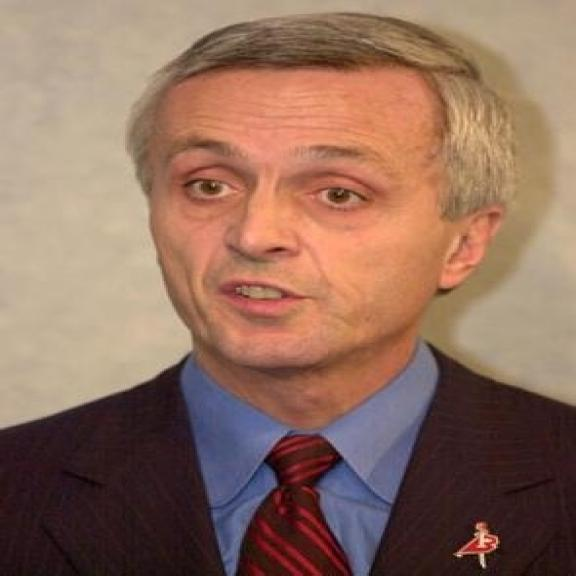face: (131, 16, 510, 372)
